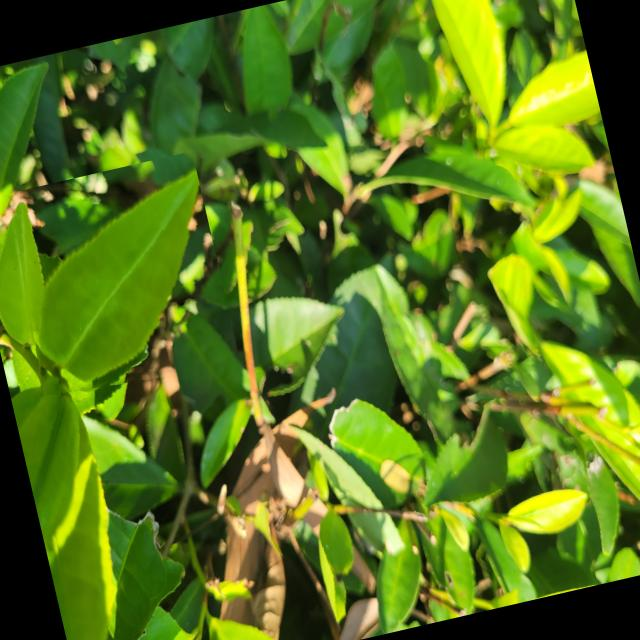Catagory A(1-2 days): (0, 151, 240, 409)
